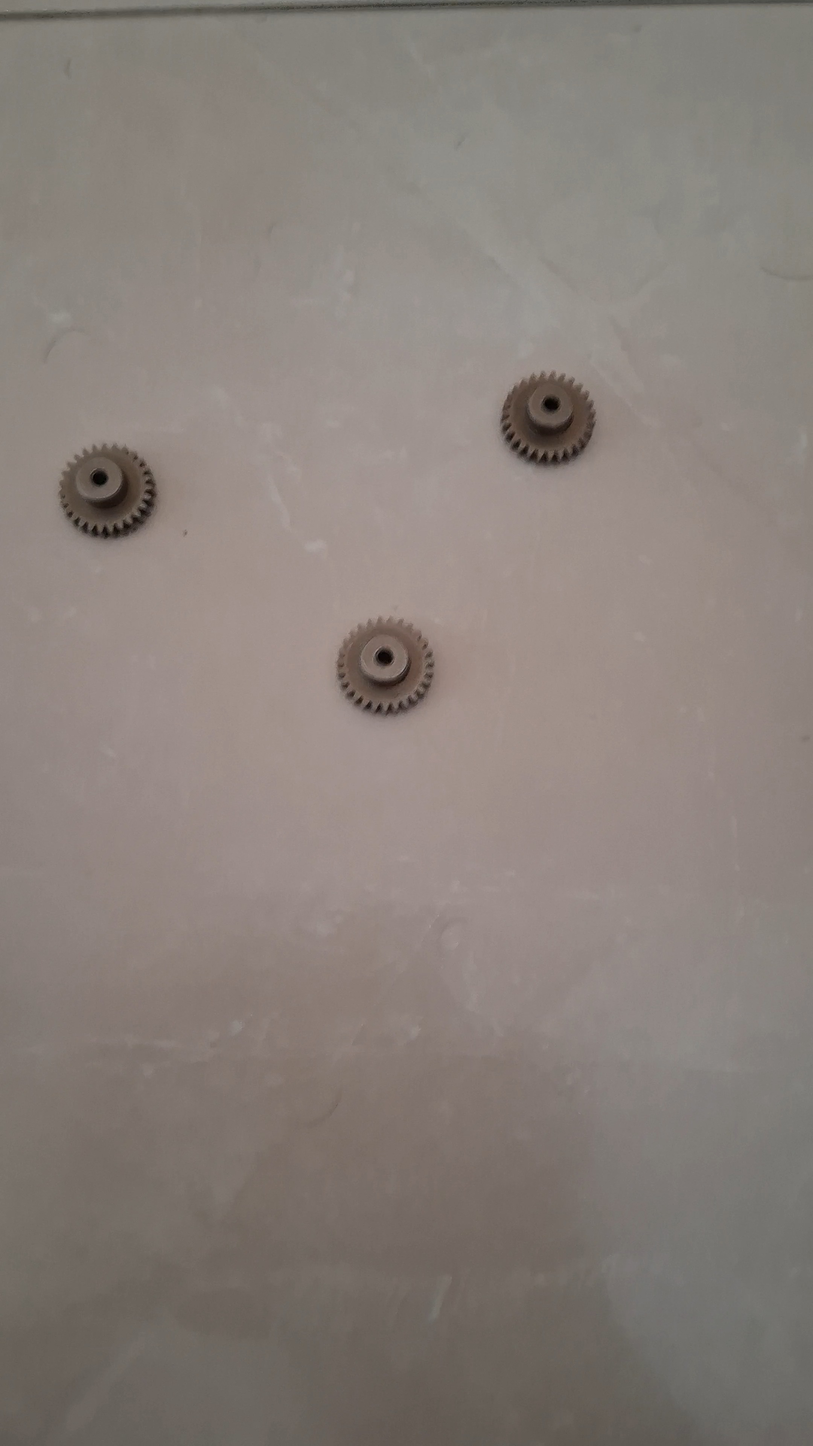spur gear: (337, 617, 434, 714), (59, 445, 155, 536), (501, 373, 595, 463)
